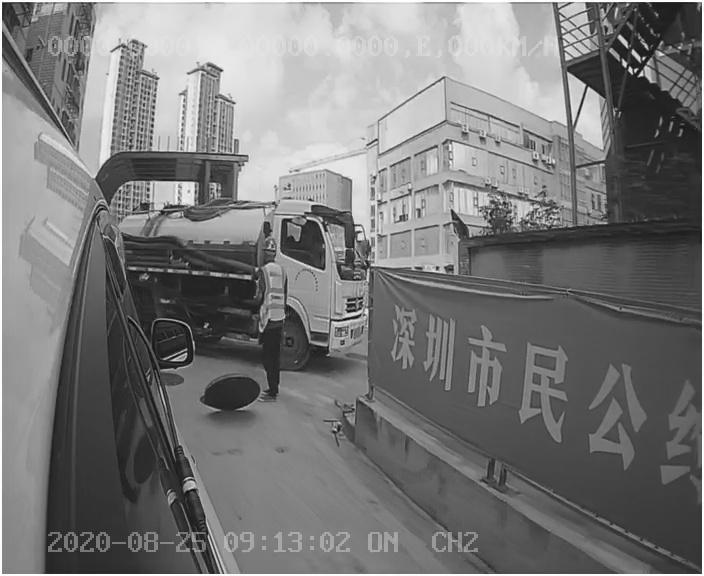person: (250, 238, 296, 411)
